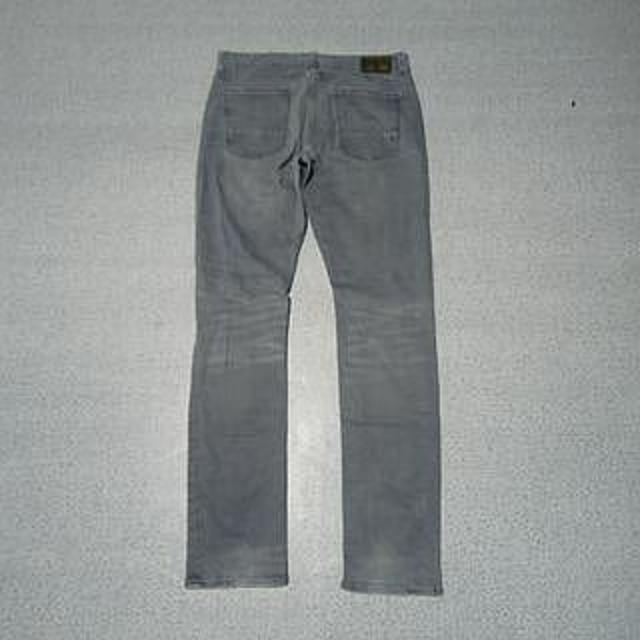TROUSER: (167, 44, 492, 607)
